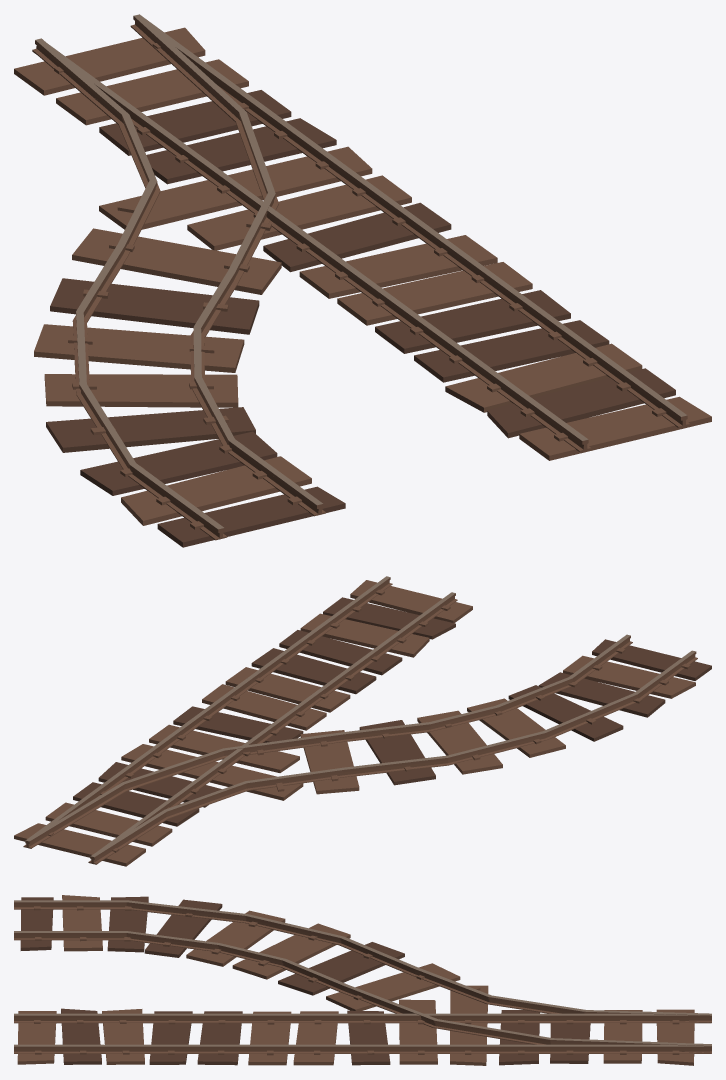
The model's file is Mines Car Track Fork v2.glb.
The picture shows the model from 3 angles, top to bottom: view 1: azimuth 30°, elevation 25°; view 2: azimuth 150°, elevation 25°; view 3: azimuth 270°, elevation 25°; orthographic projection. The views are drawn at different scales.
Visible parts, largest first — view 1: Mines Car Track Fork v2; view 2: Mines Car Track Fork v2; view 3: Mines Car Track Fork v2.
Part boxes in pixels (x1,y1,x2,y2): Mines Car Track Fork v2: (14,14,711,547); Mines Car Track Fork v2: (14,576,711,866); Mines Car Track Fork v2: (14,895,711,1065).
Size of what is drawn, in the model's own units: 3.4 by 0.095 by 6.
Materials: 1 (1 with a texture image).
